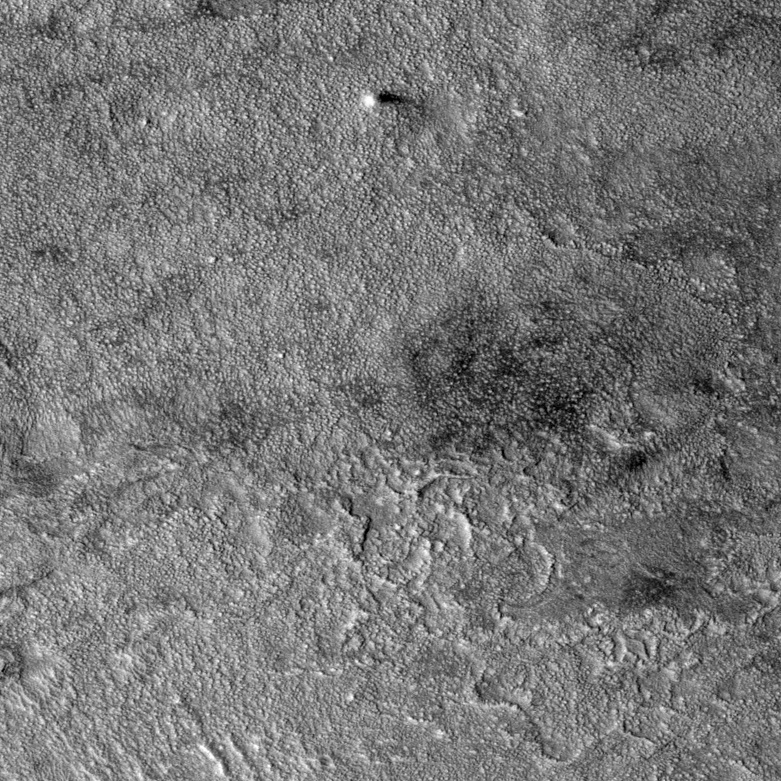dust_devil: (361, 89, 418, 110)
